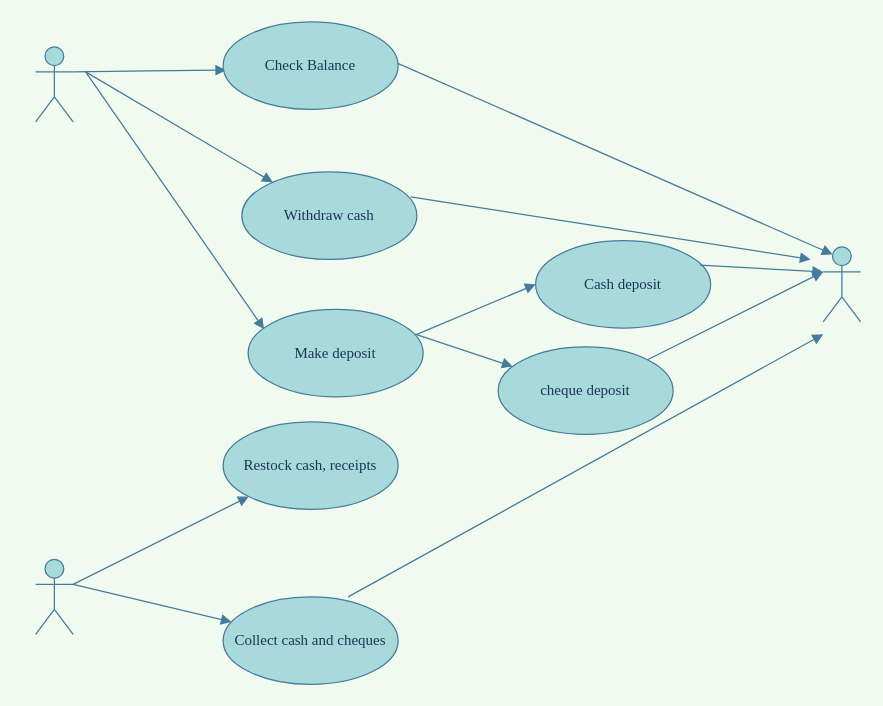
This 883x706 diagram has some shape labels left out. Each missing label, with the centre of its shape:
Bank: the point at 841,284
Customer: the point at 53,84
Technician: the point at 53,596
